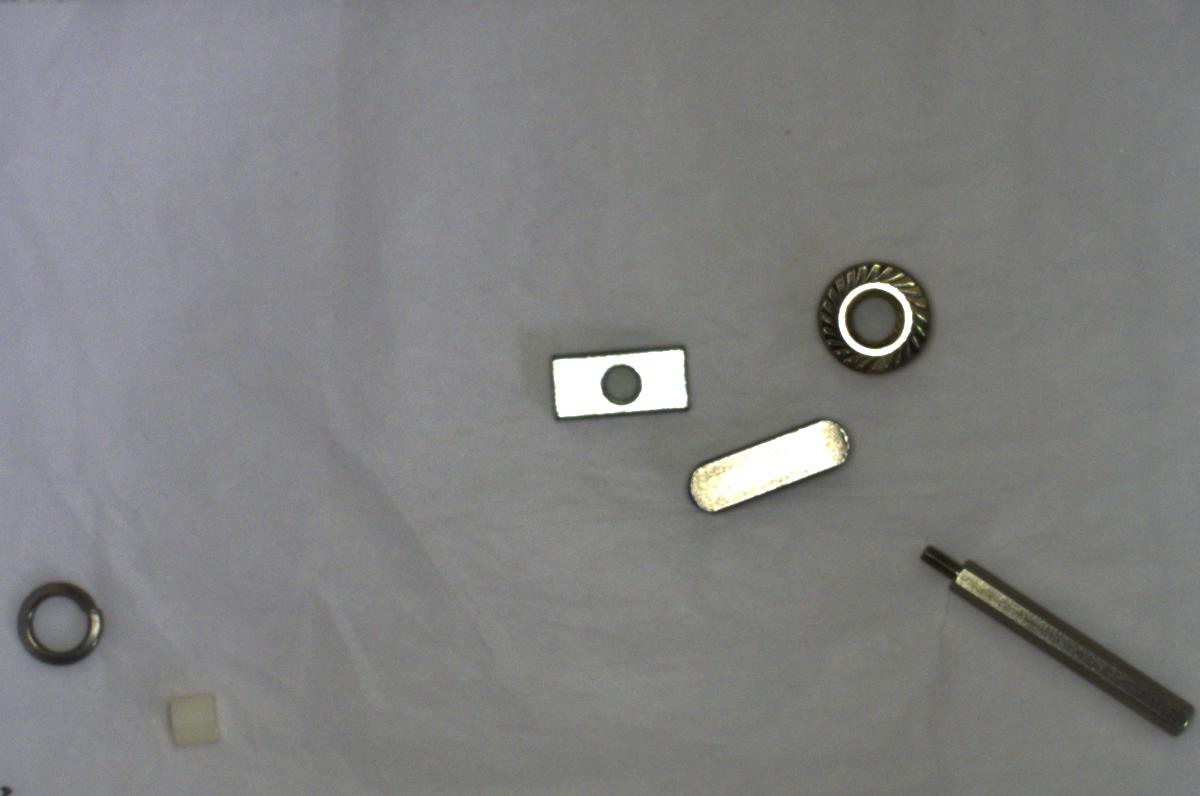Flange nut: (802, 252, 944, 375)
Hexagonal steel column: (911, 536, 1190, 740)
Keybar: (684, 410, 846, 519)
Plastic cushion pillar: (158, 683, 230, 753)
Rectangular nut: (541, 335, 697, 428)
Spring washer: (10, 575, 113, 667)
